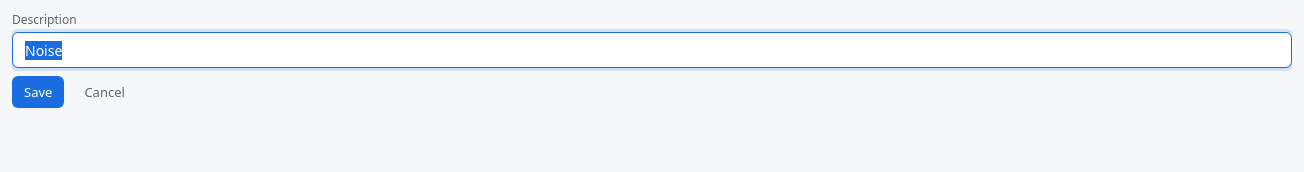
Scenario: OrderInlineField › cancels on Escape without saving
This screenshot has width=1304, height=172.
Type " more" into the field named "Description" at {"x": 652, "y": 50}, box left=12, top=32, right=1292, bottom=68
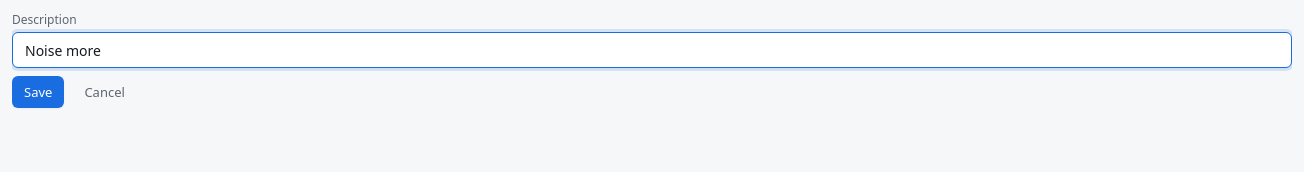
Press Escape
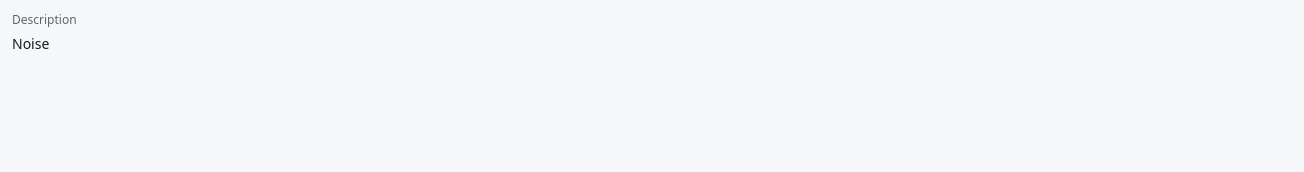
Result: the field is gone
